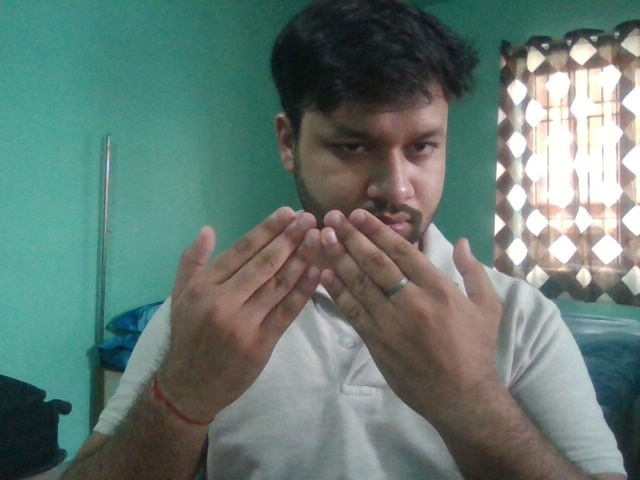Thank You: (158, 203, 513, 424)
